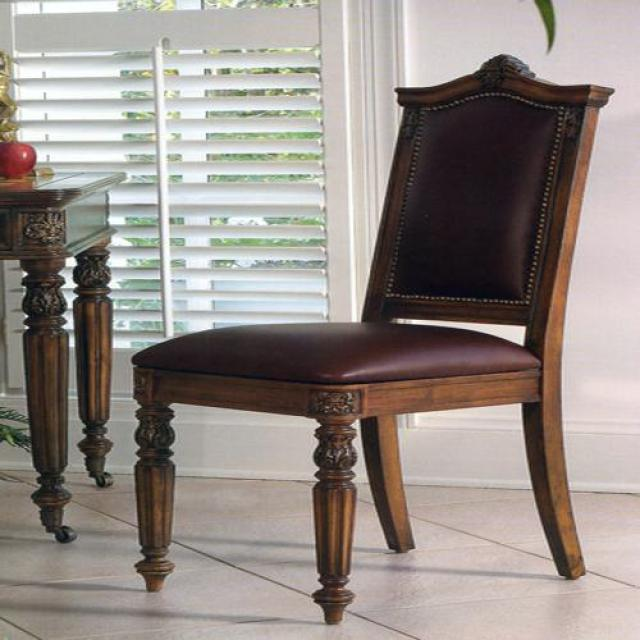chair: (133, 55, 616, 627)
